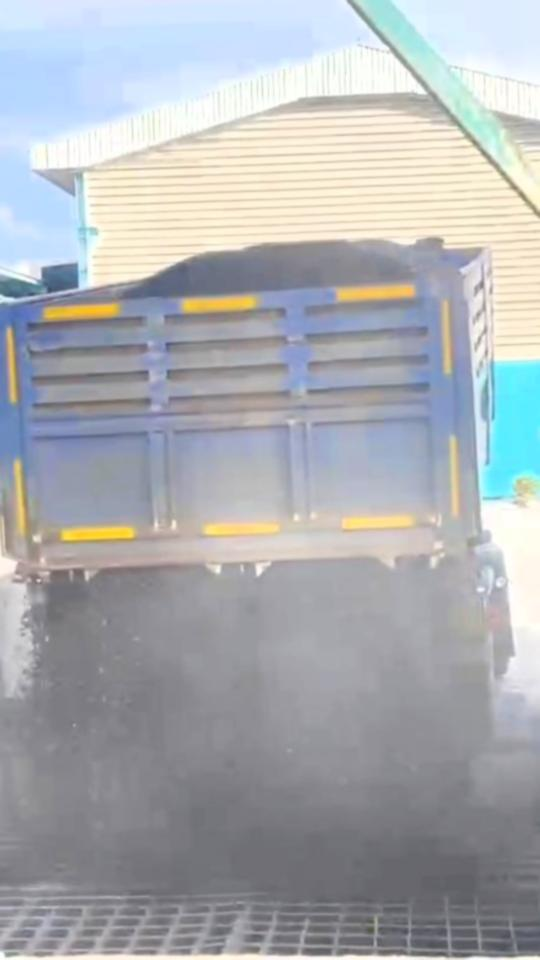gravel: (8, 559, 490, 898), (119, 244, 428, 296)
